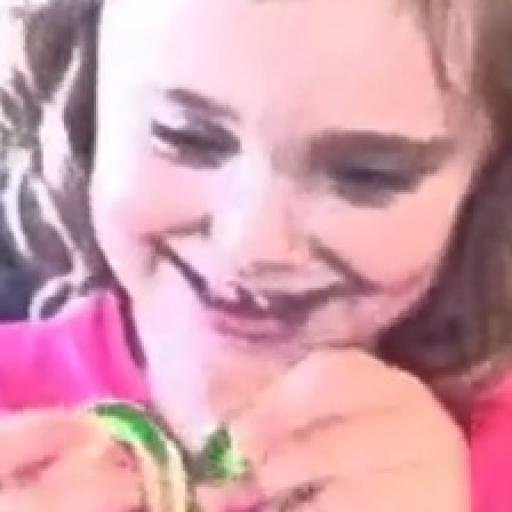Autism: (72, 0, 469, 443)
